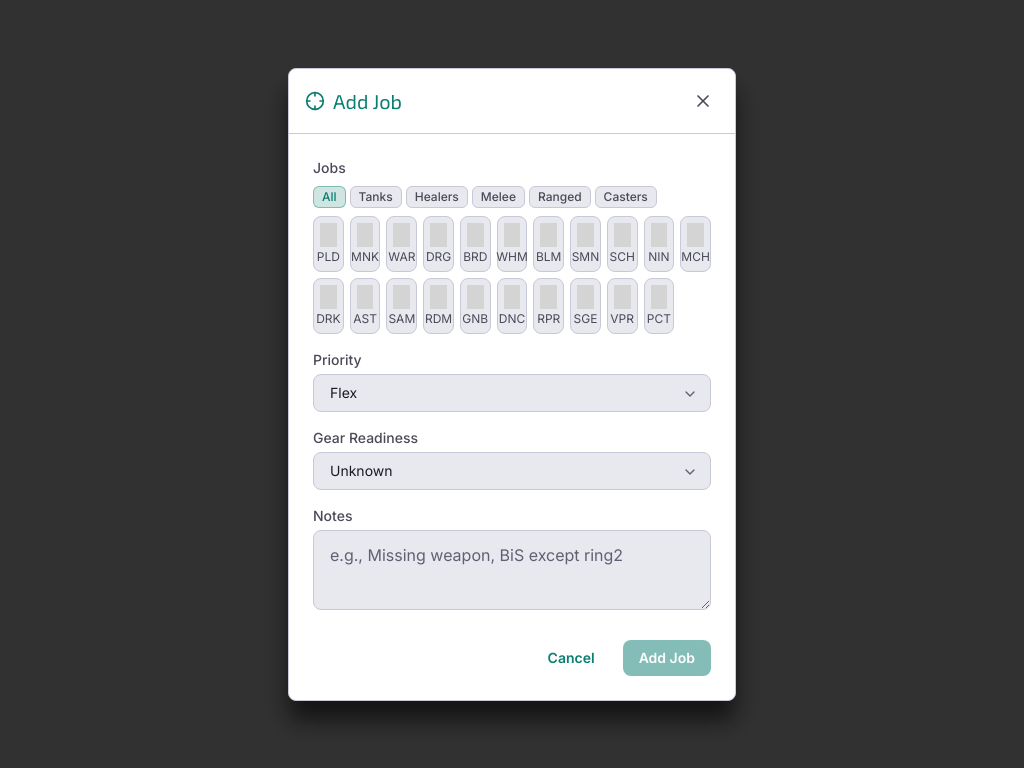
it: JobProfileModal (Add mode) › selecting one job enables the button with label "Add Job"
Click the button with test id "job-chip-BRD": (475, 244) [460, 216, 491, 272]
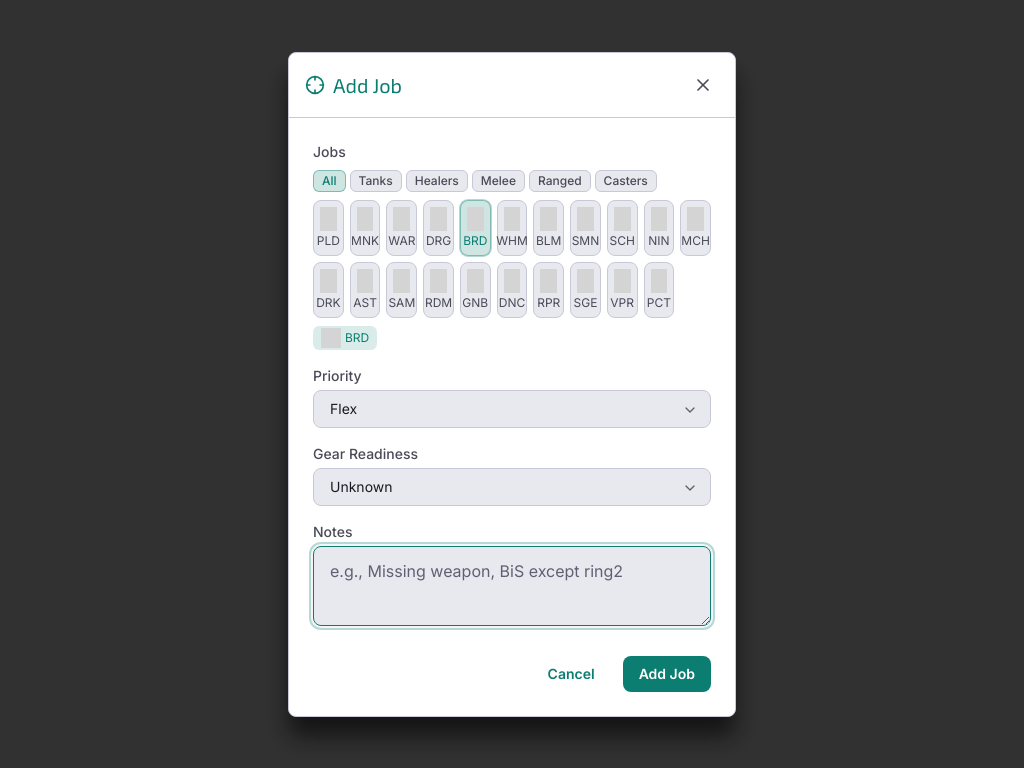
Expected: the button with test id "submit-add-job" reads "Add Job", [623, 656, 711, 692]
Now the button with test id "submit-add-job" is enabled, box [623, 656, 711, 692]
